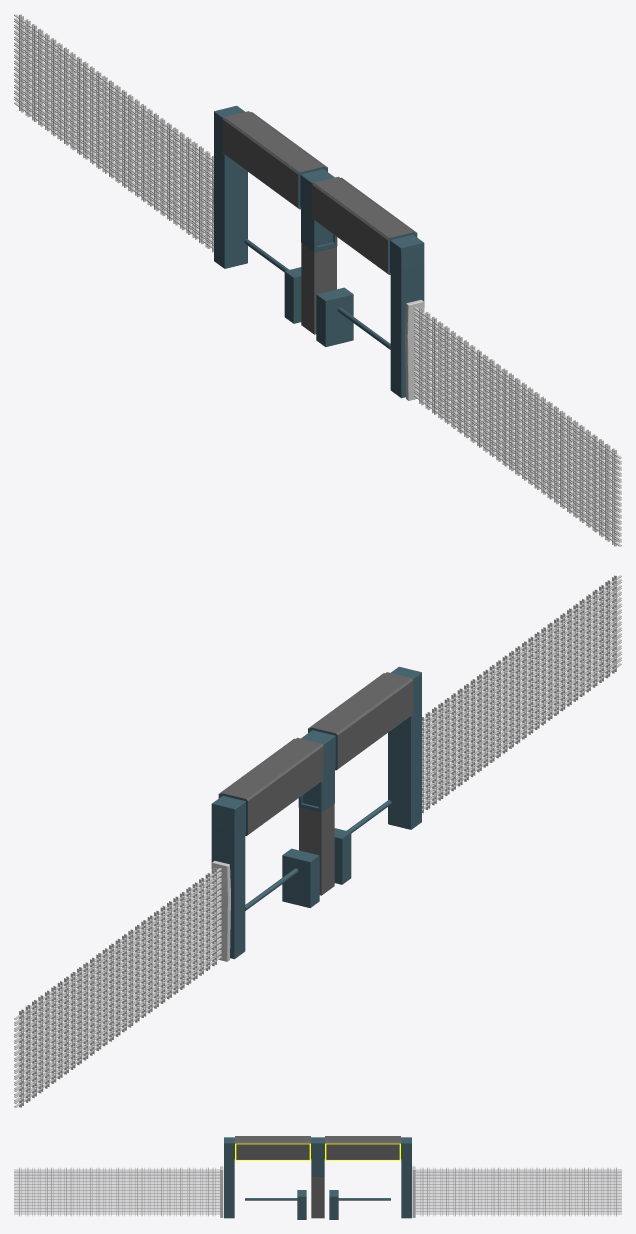
The model's file is gumruk_kaps.fbx.
The picture shows the model from 3 angles, top to bottom: view 1: azimuth 30°, elevation 25°; view 2: azimuth 150°, elevation 25°; view 3: azimuth 270°, elevation 25°; orthographic projection. The views are drawn at different scales.
Parts seen in each view (by area): view 1: Plane; view 2: Plane; view 3: Plane.
Boxes of the visible parts, box(x1,y1,x2,y2) form: Plane: box(14, 14, 621, 546); Plane: box(14, 575, 621, 1107); Plane: box(14, 1136, 621, 1219).
Size of the model in its own units: 871 by 4319 by 30752.
